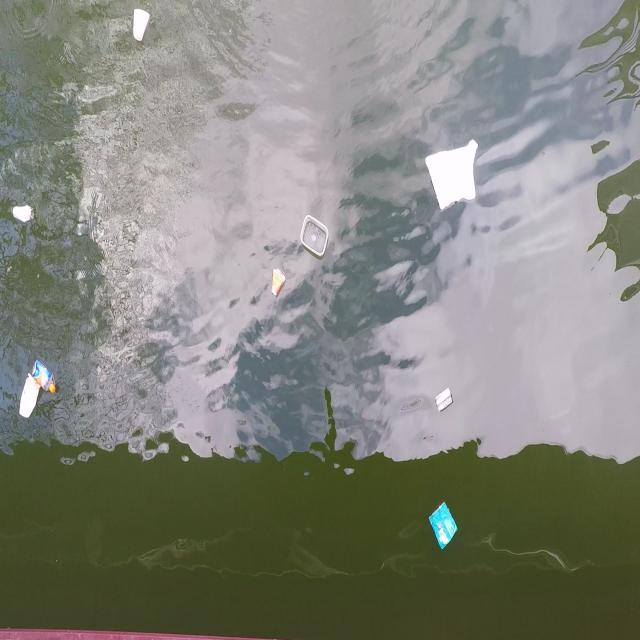Autre plastique: (420, 134, 484, 216), (427, 501, 463, 555), (298, 208, 331, 261), (13, 378, 42, 423)
Bouteille plastique: (33, 361, 57, 394)
Non plastique: (128, 2, 152, 51), (8, 197, 40, 226), (269, 260, 288, 306)
